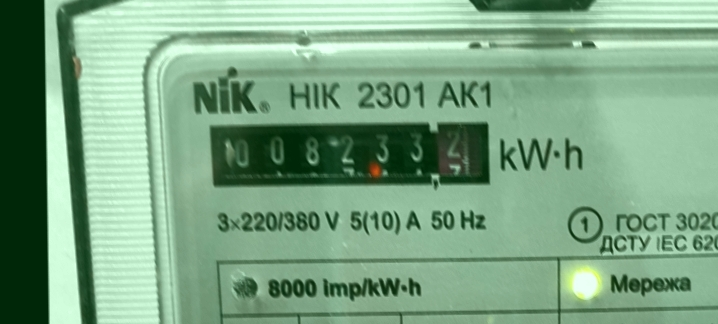0: (231, 136, 252, 168), (267, 134, 286, 166)
2: (336, 133, 357, 166), (445, 128, 462, 159)
3: (373, 132, 391, 163), (408, 130, 425, 162)
8: (303, 134, 321, 166)
screen: (199, 110, 501, 196)
